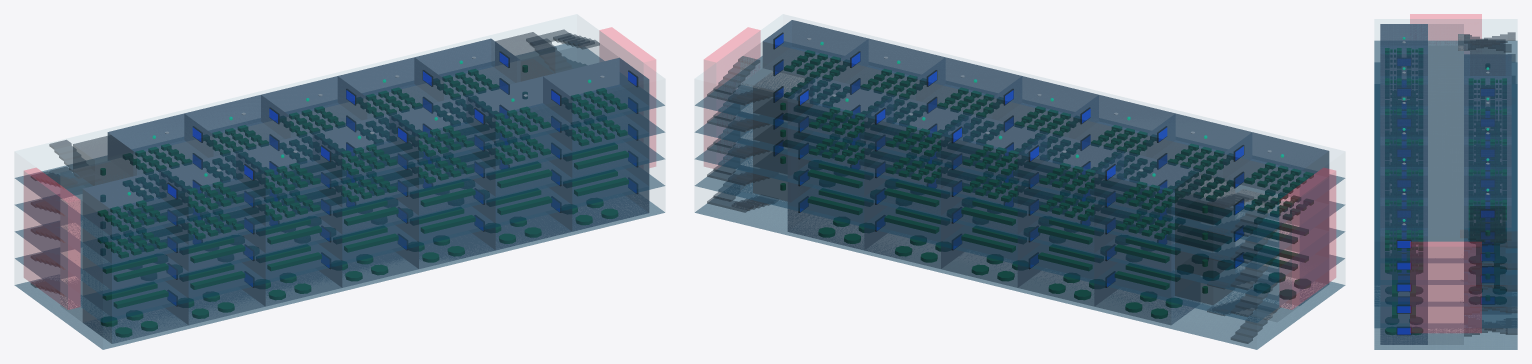
The model's file is DNTU_NhaF_DigitalTwin.glb.
The picture shows the model from 3 angles, left to right: view 1: azimuth 30°, elevation 25°; view 2: azimuth 150°, elevation 25°; view 3: azimuth 270°, elevation 25°; orthographic projection. The views are drawn at different scales.
Parts seen in each view (by area): view 1: WallSolid (×40), FloorBase (×5), LeftBalcony, CorridorSolid, ExteriorGlass, RestroomWall (×2), RightBalcony; view 2: WallSolid (×36), FloorBase (×5), RestroomWall (×8), LeftBalcony, ExteriorGlass, RightBalcony, CorridorSolid; view 3: WallSolid (×25), FloorBase (×5), RightBalcony, RestroomWall (×5), LeftBalcony, Landing (×6), ExteriorGlass, CorridorSolid.
Boxes of the visible parts, <box> form: WallSolid (×40): <box>82,38,649,343</box>; FloorBase (×5): <box>15,43,664,349</box>; LeftBalcony: <box>24,168,80,309</box>; CorridorSolid: <box>64,42,615,187</box>; ExteriorGlass: <box>15,15,664,283</box>; RestroomWall (×2): <box>73,32,555,185</box>; RightBalcony: <box>599,27,655,167</box>; WallSolid (×36): <box>762,20,1329,325</box>; FloorBase (×5): <box>695,47,1344,349</box>; RestroomWall (×8): <box>753,70,1235,304</box>; LeftBalcony: <box>1279,168,1335,309</box>; ExteriorGlass: <box>695,15,1344,284</box>; RightBalcony: <box>704,27,760,168</box>; CorridorSolid: <box>742,42,1291,187</box>; WallSolid (×25): <box>1380,24,1511,344</box>; FloorBase (×5): <box>1374,40,1517,349</box>; RightBalcony: <box>1410,242,1481,332</box>; RestroomWall (×5): <box>1470,39,1505,307</box>; LeftBalcony: <box>1410,14,1481,40</box>; Landing (×6): <box>1458,34,1517,334</box>; ExteriorGlass: <box>1375,19,1516,39</box>; CorridorSolid: <box>1428,25,1463,235</box>.
Bounding box in the file's own units: 92 × 20 × 24.
